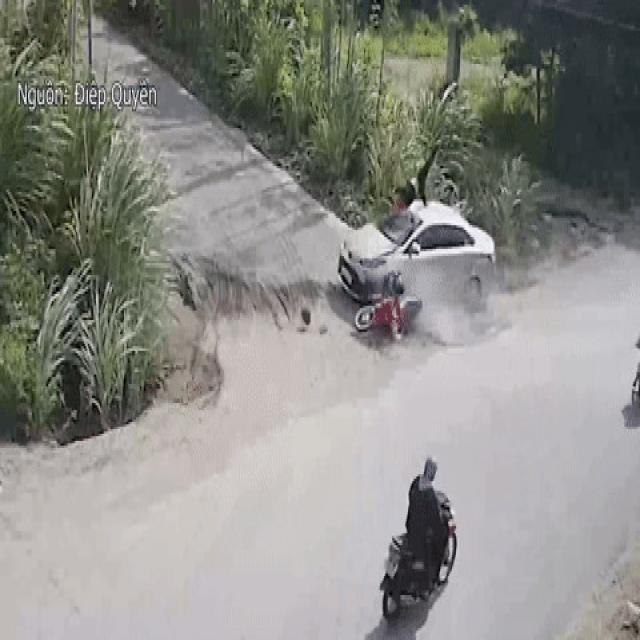multiple_accident: (326, 141, 504, 349)
normal: (370, 447, 470, 631)
